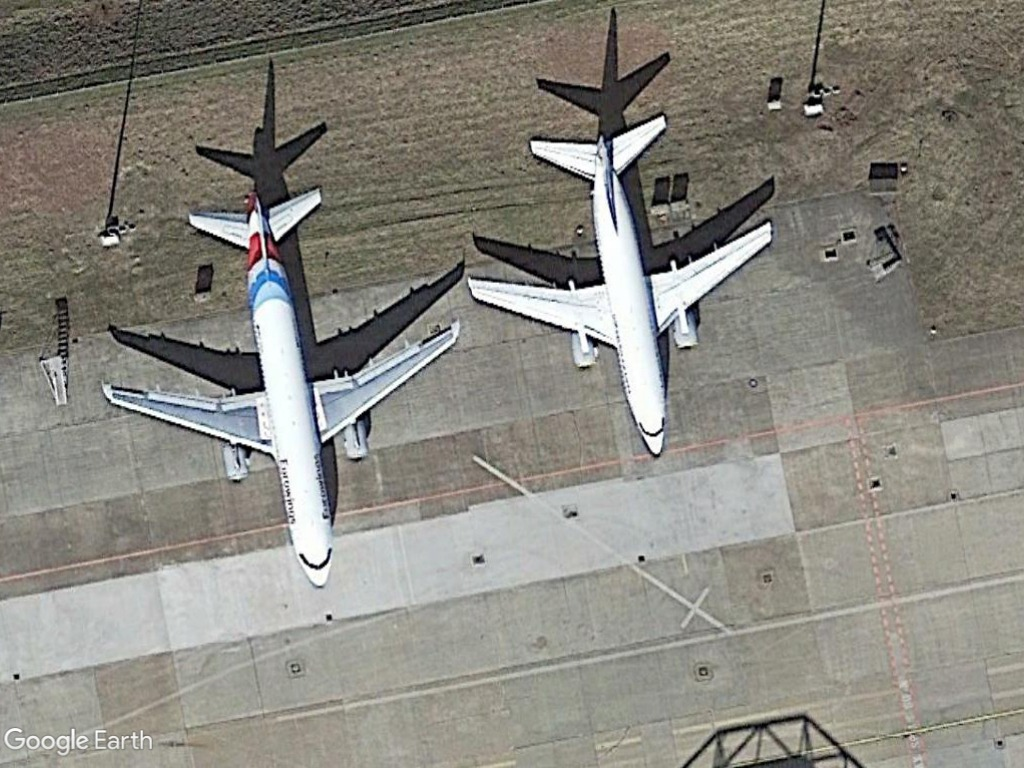airliner: (96, 183, 466, 592), (457, 105, 782, 465)
stairtruck: (38, 356, 74, 409)
